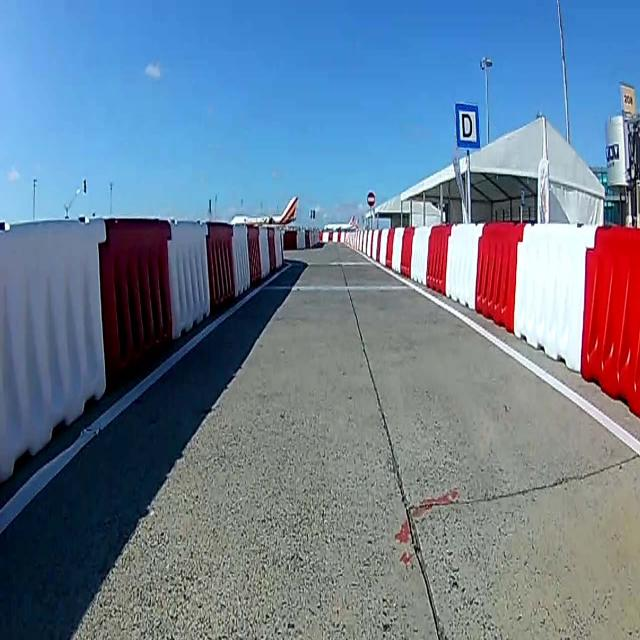durak: (455, 102, 481, 150)
girisyok: (366, 190, 376, 206)
